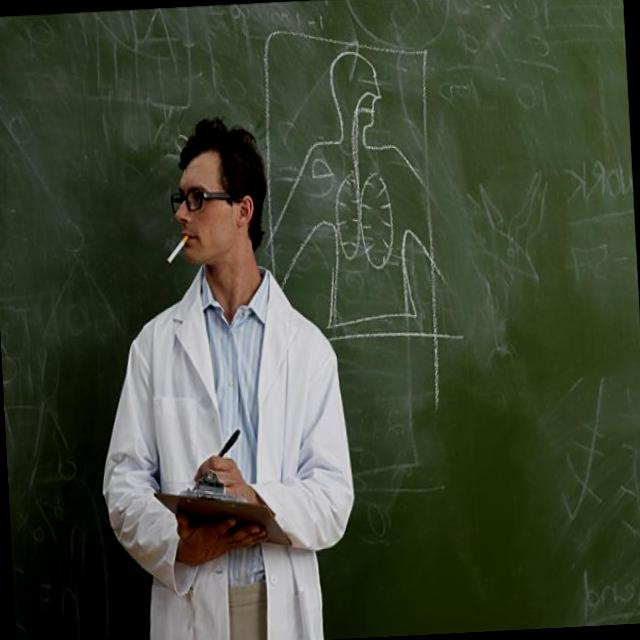cigarette: (164, 238, 189, 269)
